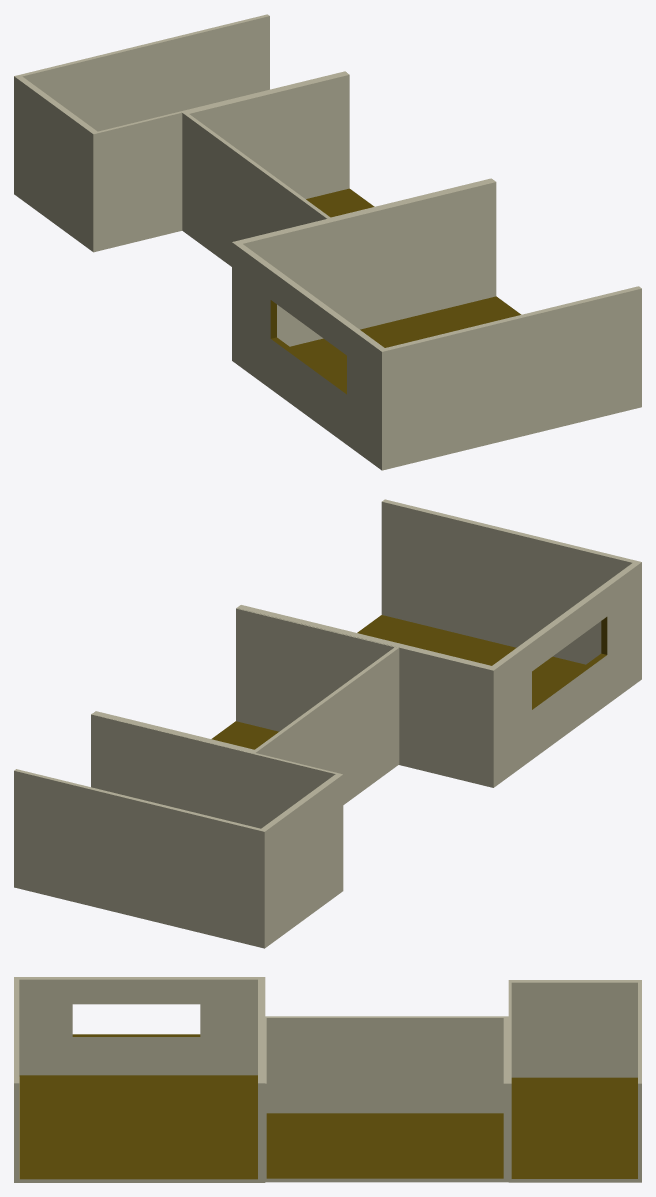
The model's file is CubiclemultipleWlight.fbx.
3 renders of one model, top to bottom at view 1: azimuth 30°, elevation 25°; view 2: azimuth 150°, elevation 25°; view 3: azimuth 270°, elevation 25°, orthographic. The views are drawn at different scales.
Visible parts, largest first — view 1: Plane.002; view 2: Plane.002; view 3: Plane.002.
Part boxes in pixels (box(x1,y1,x2,y2)): Plane.002: box(14, 14, 641, 470); Plane.002: box(14, 499, 641, 948); Plane.002: box(14, 977, 641, 1182).
Size of the model in its own units: 309 by 135 by 770.
